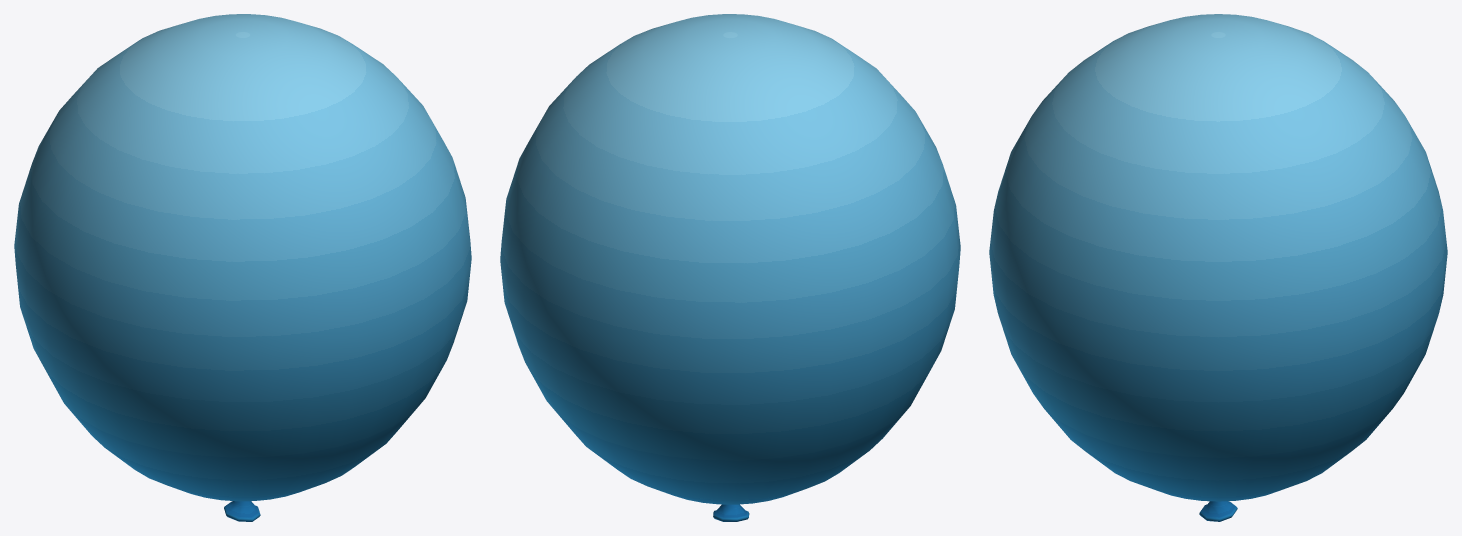
Rendered from balloon_sky.fbx.
The picture shows the model from 3 angles, left to right: view 1: azimuth 30°, elevation 25°; view 2: azimuth 150°, elevation 25°; view 3: azimuth 270°, elevation 25°; orthographic projection.
Visible parts, largest first — view 1: balloon_sky, balloon_sky_t; view 2: balloon_sky, balloon_sky_t; view 3: balloon_sky, balloon_sky_t.
Part boxes in pixels (x1,y1,x2,y2): balloon_sky: [14, 14, 471, 501]; balloon_sky_t: [224, 501, 260, 521]; balloon_sky: [500, 14, 960, 504]; balloon_sky_t: [713, 504, 749, 521]; balloon_sky: [989, 14, 1447, 501]; balloon_sky_t: [1199, 501, 1237, 521].
Size of the model in its own units: 64.65 by 74.87 by 64.65.
